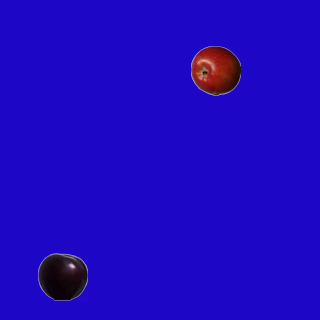Apple Braeburn: (190, 45, 240, 95)
Cherry Wax Black: (37, 251, 87, 301)
